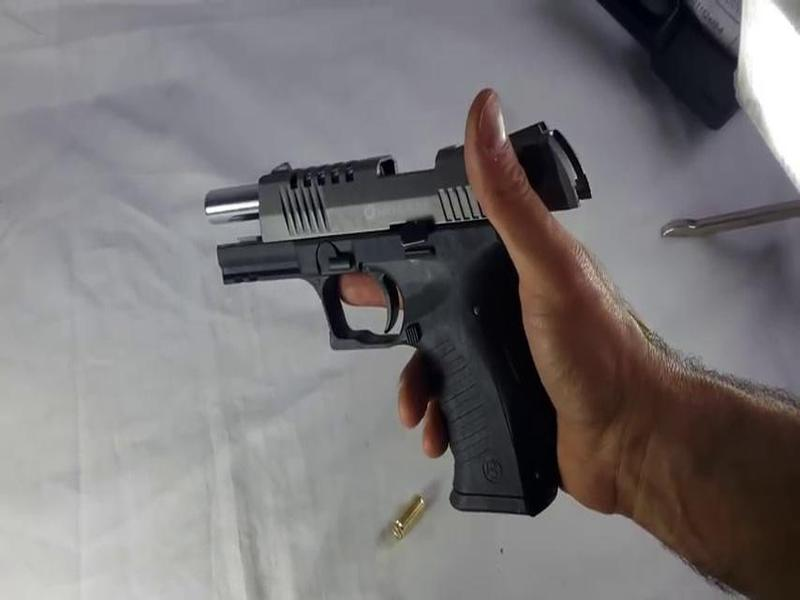Pistola: (198, 97, 621, 524)
